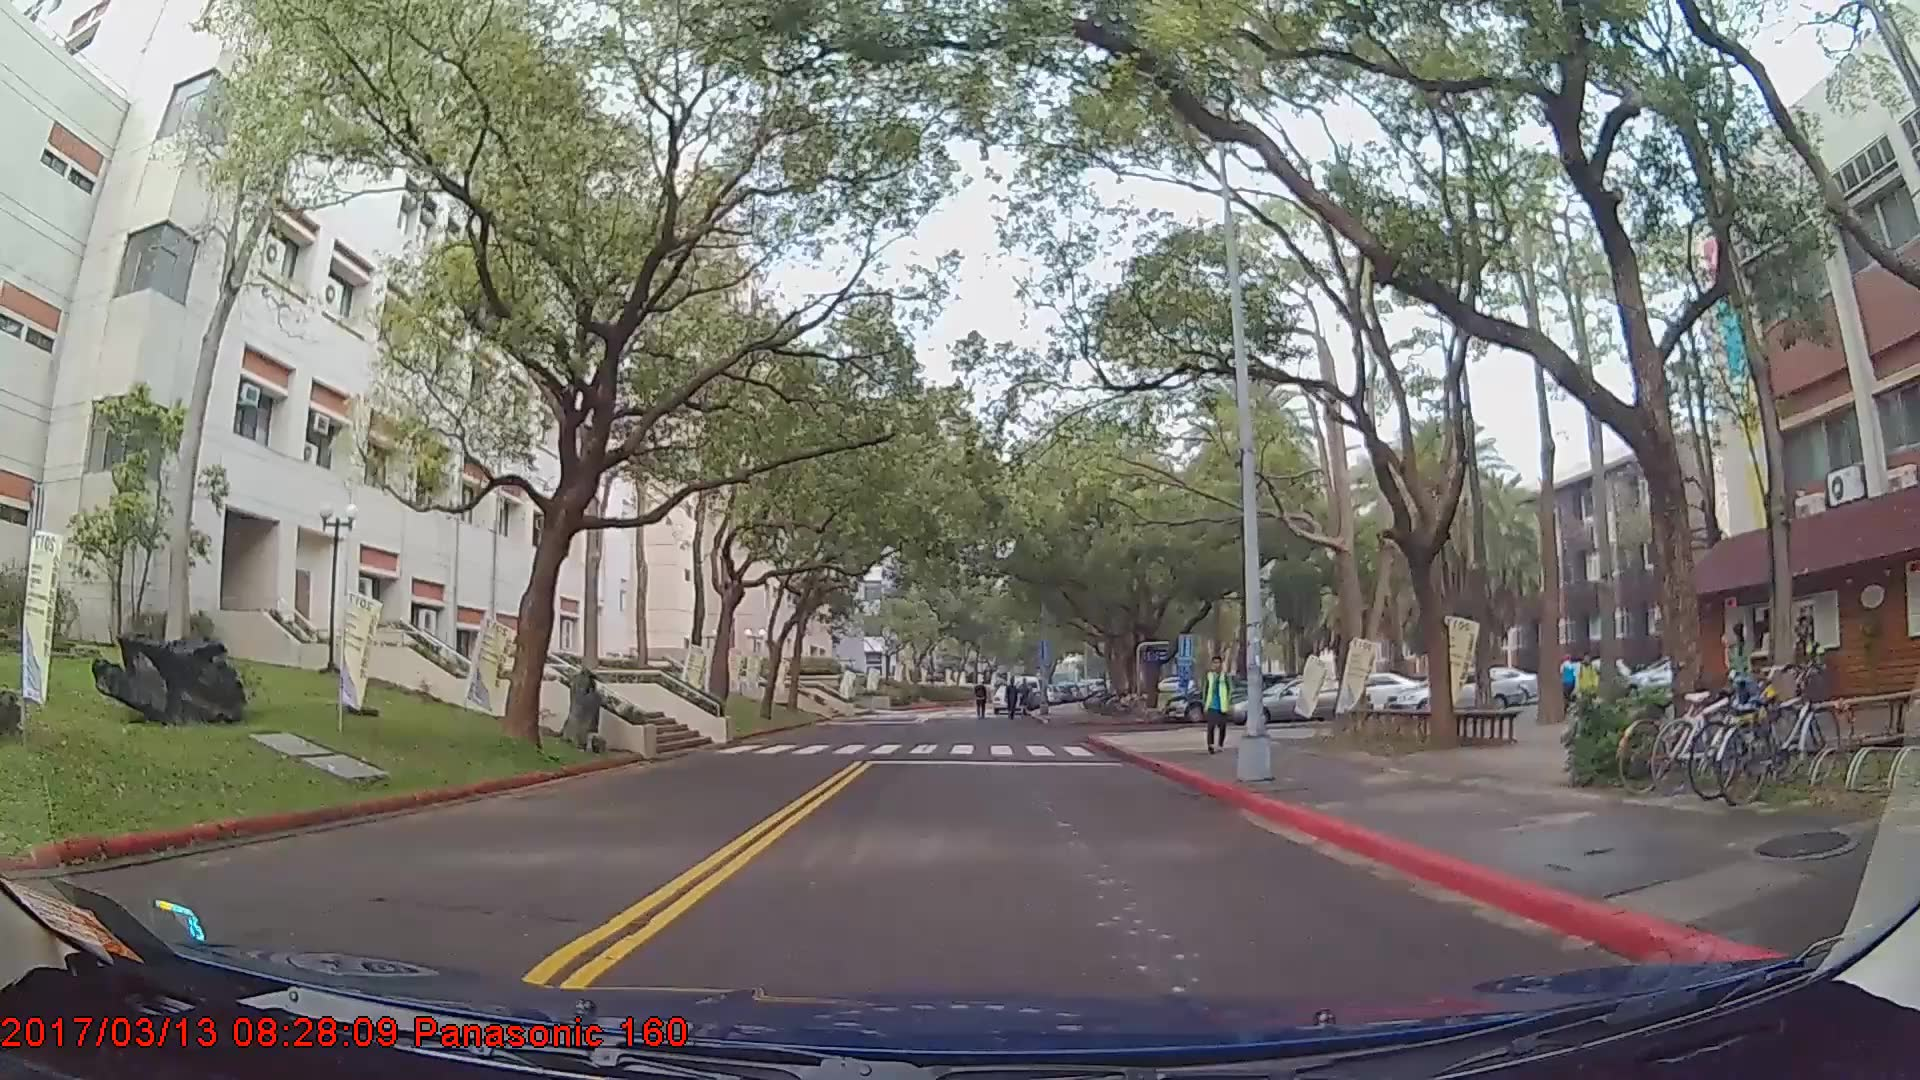pedestrian: (1197, 652, 1234, 752), (1575, 652, 1599, 714), (1003, 677, 1023, 721)
vehicle: (1227, 675, 1374, 727), (1384, 666, 1521, 719)
